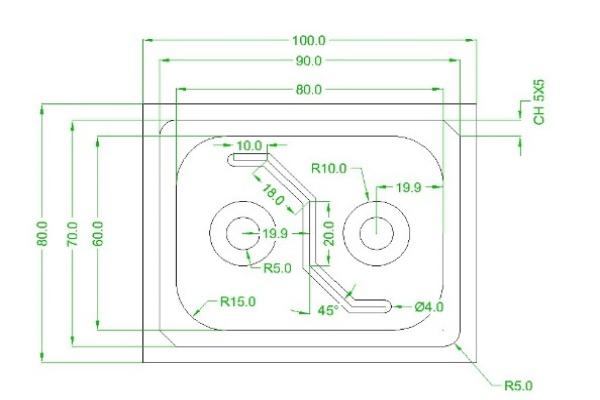dimensions: (498, 366, 544, 397), (301, 155, 352, 179), (216, 288, 260, 312), (288, 78, 330, 101), (29, 218, 56, 250), (285, 50, 328, 70), (393, 176, 426, 200), (412, 295, 446, 318), (260, 220, 292, 244), (290, 30, 330, 49), (260, 182, 289, 208), (62, 219, 83, 252), (89, 220, 109, 252), (262, 260, 296, 278)
